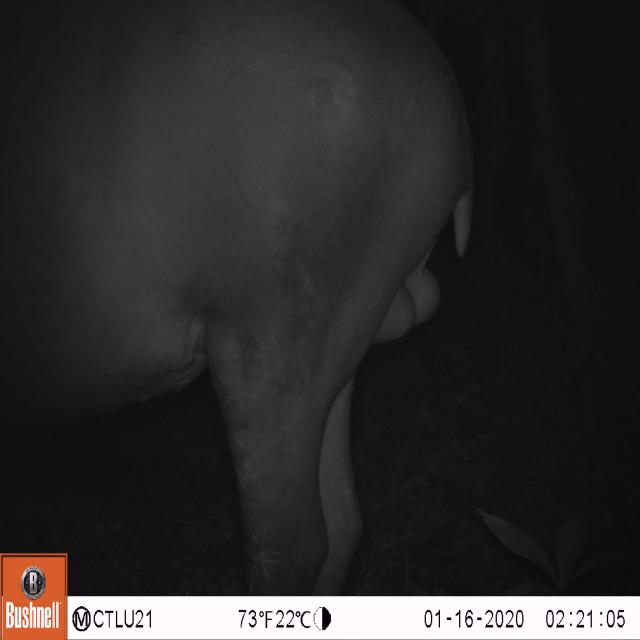Lowland Tapir: (2, 2, 471, 596)
